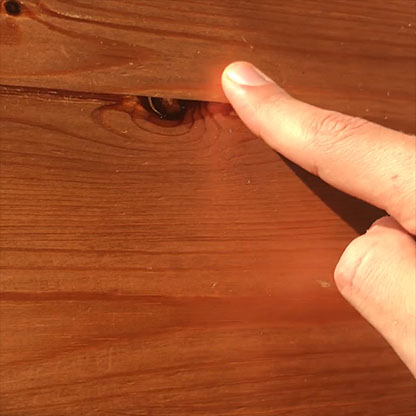fingertip: (210, 50, 279, 105)
